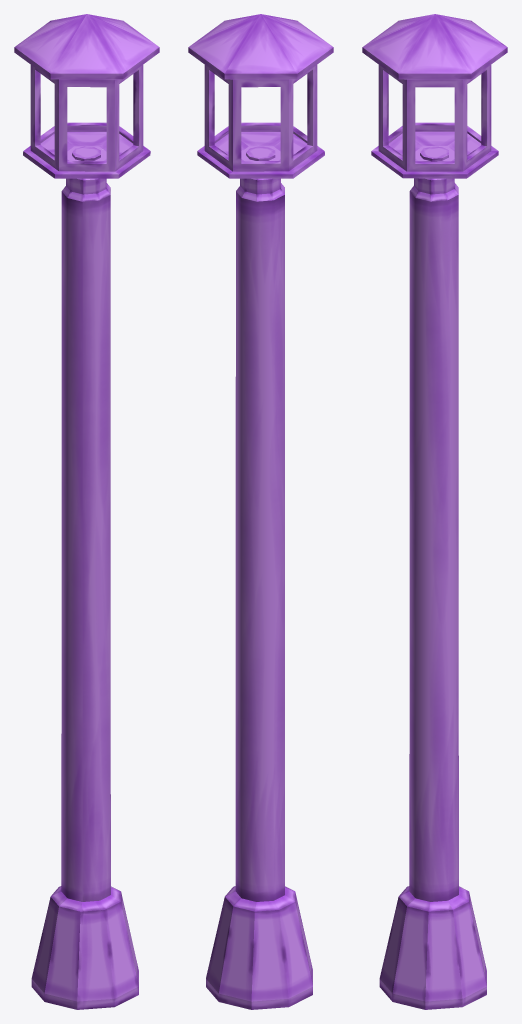
File: Light.fbx
3 views of the same model, side by side, from view 1: azimuth 30°, elevation 25°; view 2: azimuth 150°, elevation 25°; view 3: azimuth 270°, elevation 25° (orthographic).
Visible parts, largest first — view 1: Cylinder024, NGon020; view 2: Cylinder024, NGon020; view 3: Cylinder024, NGon020.
Part boxes in pixels (left/top/right/bottom): Cylinder024: left=31, top=146, right=138, bottom=1009; NGon020: left=14, top=14, right=159, bottom=178; Cylinder024: left=206, top=146, right=312, bottom=1009; NGon020: left=188, top=14, right=333, bottom=178; Cylinder024: left=379, top=146, right=486, bottom=1009; NGon020: left=362, top=14, right=507, bottom=178.
Bounding box in the file's own units: 41.08 × 351 × 47.43.
Materials: 2 (2 with a texture image).
